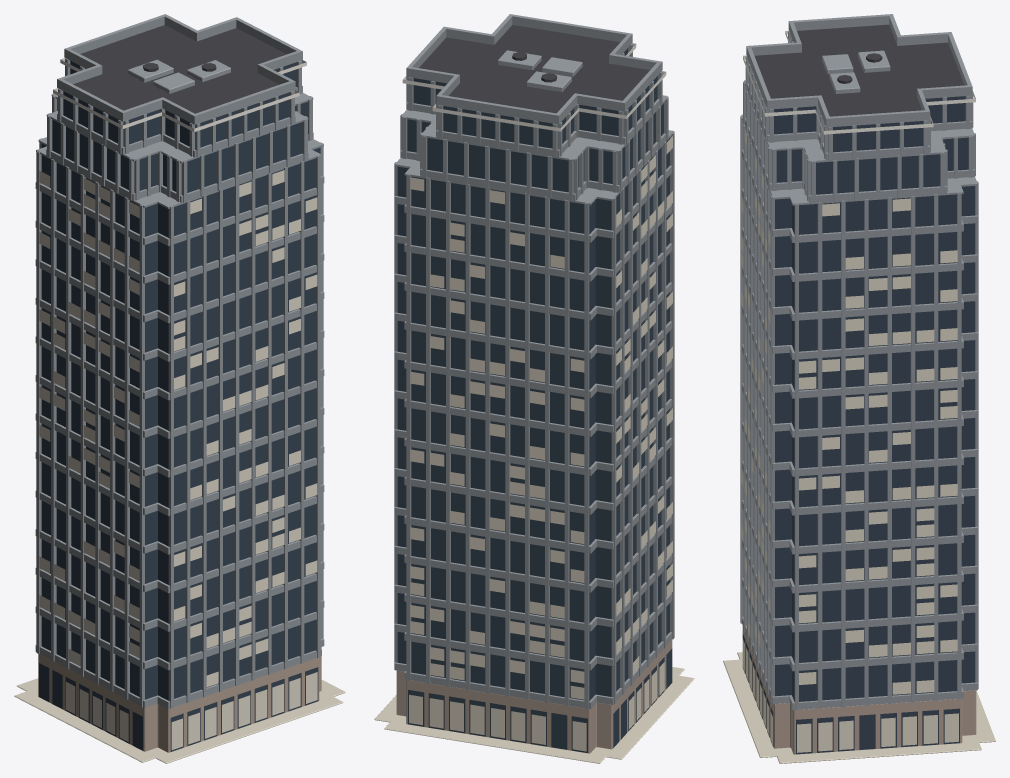
File: embarcadero-center-west.glb
3 views of the same model, side by side, from view 1: azimuth 30°, elevation 25°; view 2: azimuth 150°, elevation 25°; view 3: azimuth 270°, elevation 25° (orthographic).
Visible parts, largest first — view 1: embarcadero-center-west_body, embarcadero-center-west_night_glow; view 2: embarcadero-center-west_body, embarcadero-center-west_night_glow; view 3: embarcadero-center-west_body, embarcadero-center-west_night_glow.
Part boxes in pixels (x1=…): embarcadero-center-west_body: x1=14, y1=14, x2=345, y2=763; embarcadero-center-west_night_glow: x1=39, y1=58, x2=317, y2=749; embarcadero-center-west_body: x1=374, y1=14, x2=694, y2=763; embarcadero-center-west_night_glow: x1=402, y1=43, x2=672, y2=751; embarcadero-center-west_body: x1=723, y1=14, x2=995, y2=763; embarcadero-center-west_night_glow: x1=741, y1=30, x2=975, y2=752.
Bounding box in the file's own units: 51.72 × 123 × 47.92.
